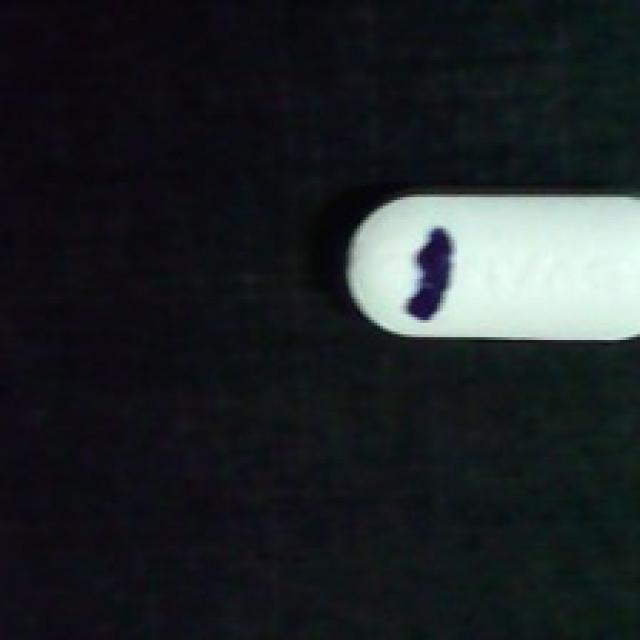defected: (340, 183, 640, 354)
